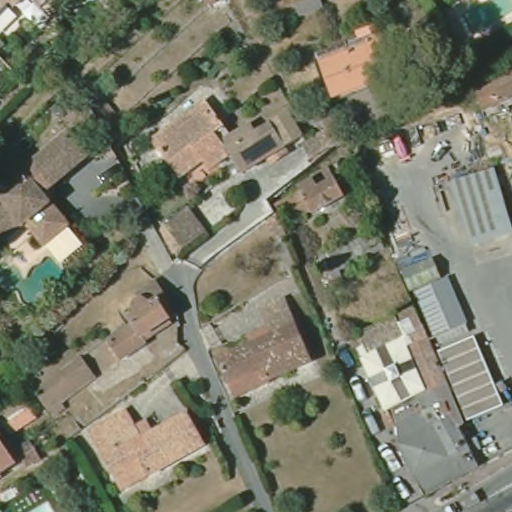pool: (5, 251, 69, 310)
